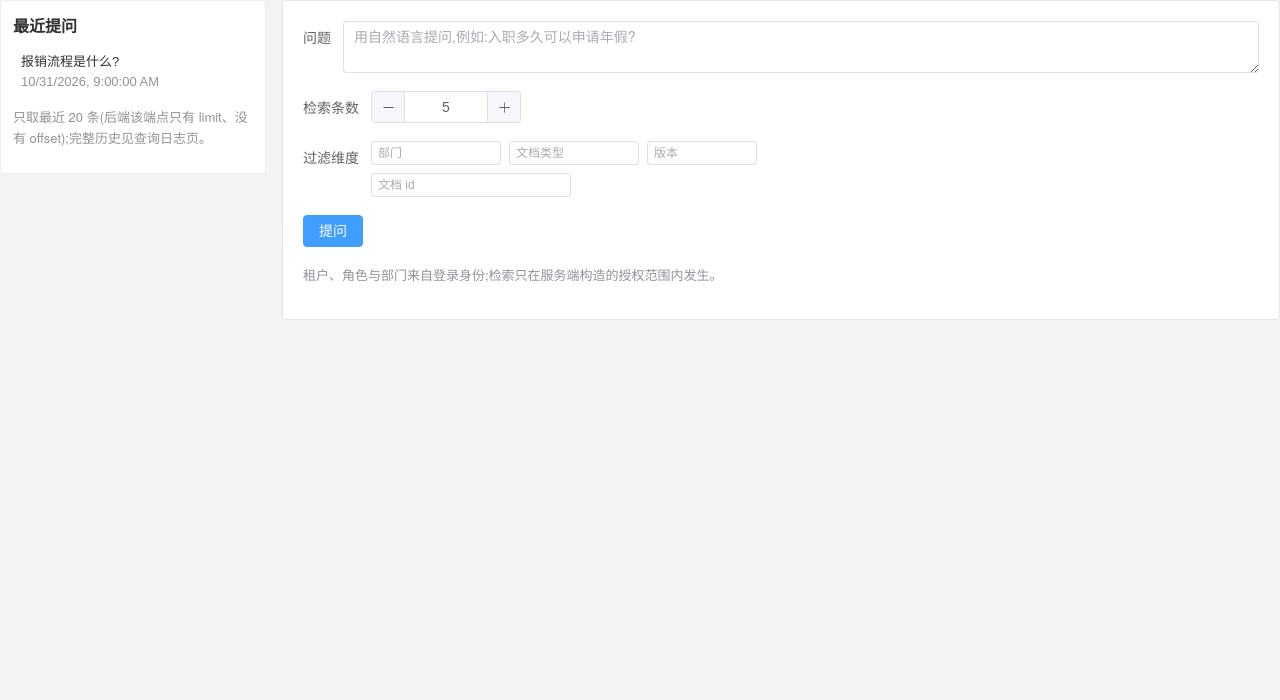
Test case: 组件行为 › 问答页 › 回看历史提问时,引用的文档名按文档档案补上
The width and height of the screenshot is (1280, 700).
Click the button with test id "recent-question-qry-hist" at x=133, y=72, box [13,45,253,99]
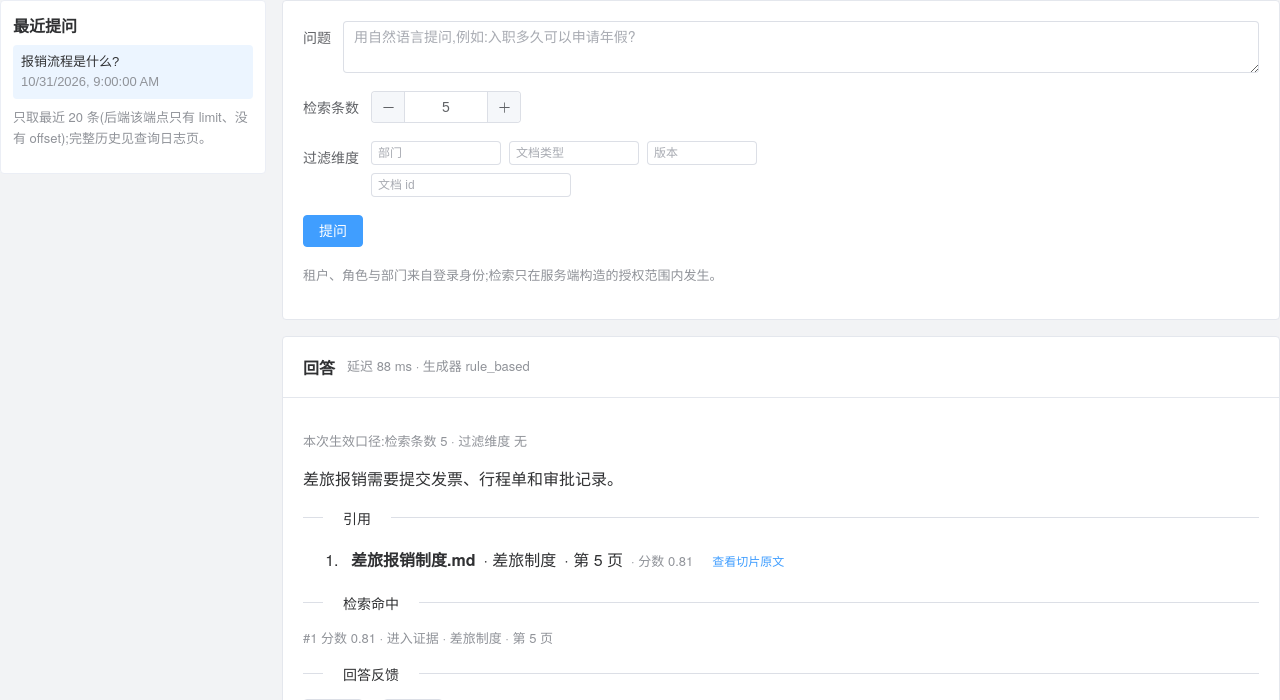
Now the list item with test id "citation-1" shows "差旅报销制度.md", box [351,548,476,571]
